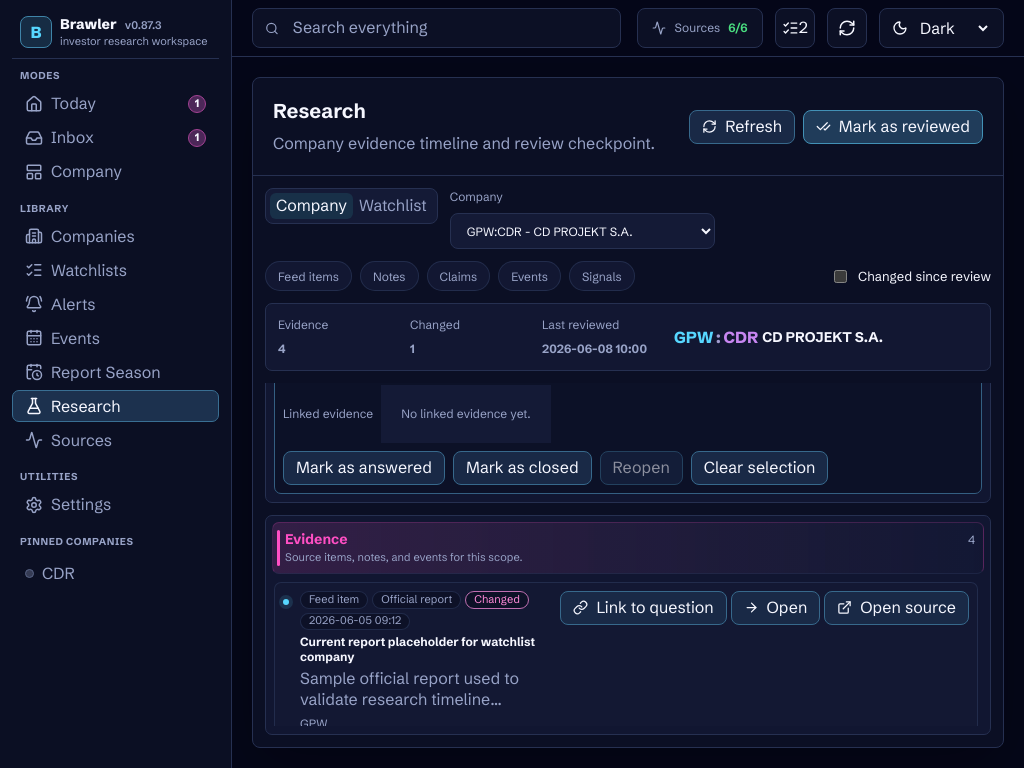
Scenario: Research screen workflows › opens a feed evidence item in Inbox without hiding the selected item
This screenshot has width=1024, height=768.
(page scrolled)
Click the button with aria-label "Open:" at (775, 608), box [730,591,820,625]
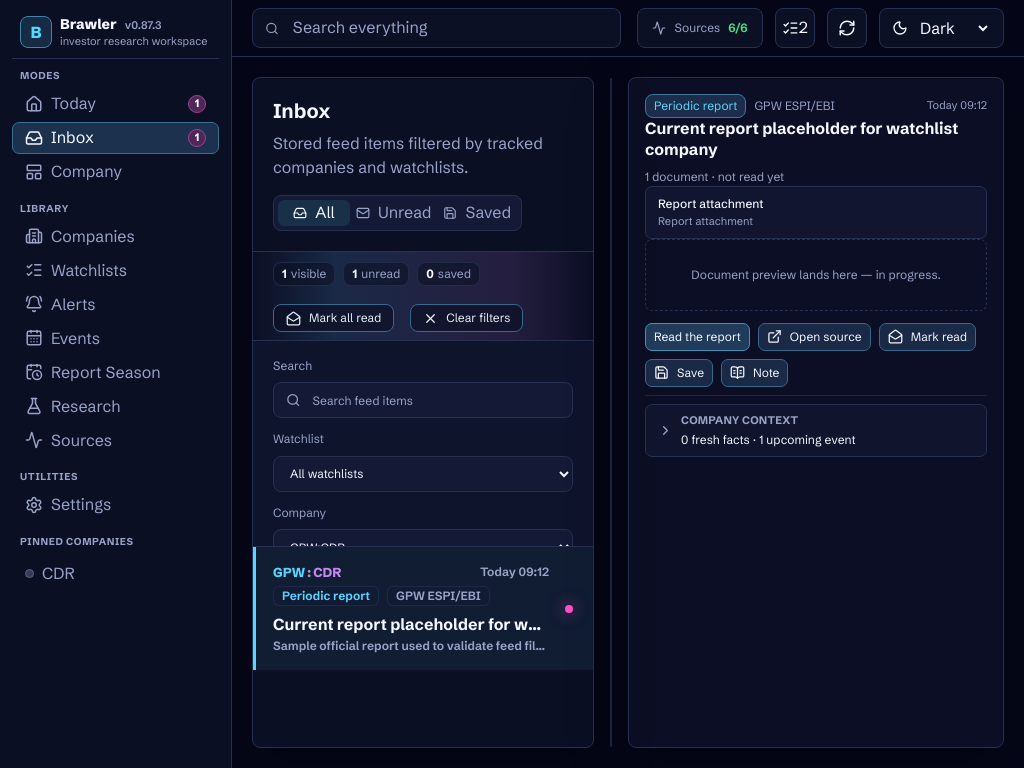
Expected: the heading "Inbox" is shown, [273,98,330,123]
Expected: the 2nd heading "Current report placeholder for watchlist company" is shown, [273,614,549,634]
